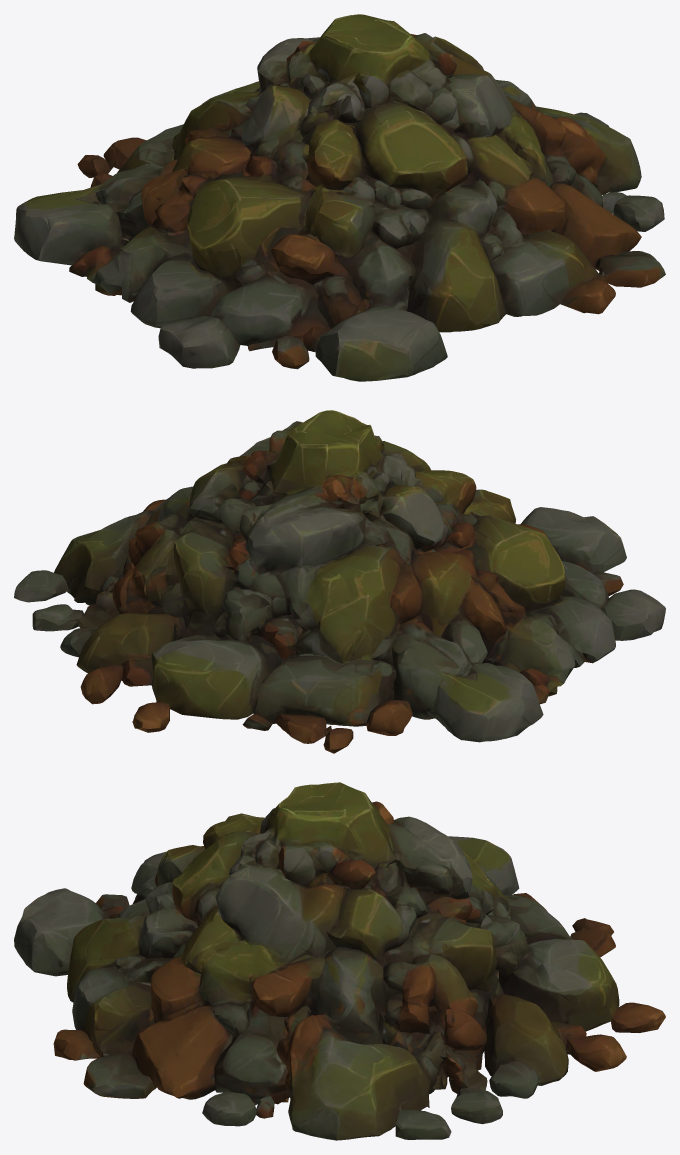
File: gravel_pile.glb
3 views of the same model, one above another, from view 1: azimuth 30°, elevation 25°; view 2: azimuth 150°, elevation 25°; view 3: azimuth 270°, elevation 25° (orthographic). The views are drawn at different scales.
Parts seen in each view (by area): view 1: gravel_pile; view 2: gravel_pile; view 3: gravel_pile.
Part boxes in pixels (x1=…): gravel_pile: x1=14, y1=14, x2=665, y2=381; gravel_pile: x1=14, y1=410, x2=665, y2=753; gravel_pile: x1=14, y1=782, x2=665, y2=1140.
Size of the model in its own units: 0.9904 by 0.3739 by 1.
Materials: 1 (1 with a texture image).
